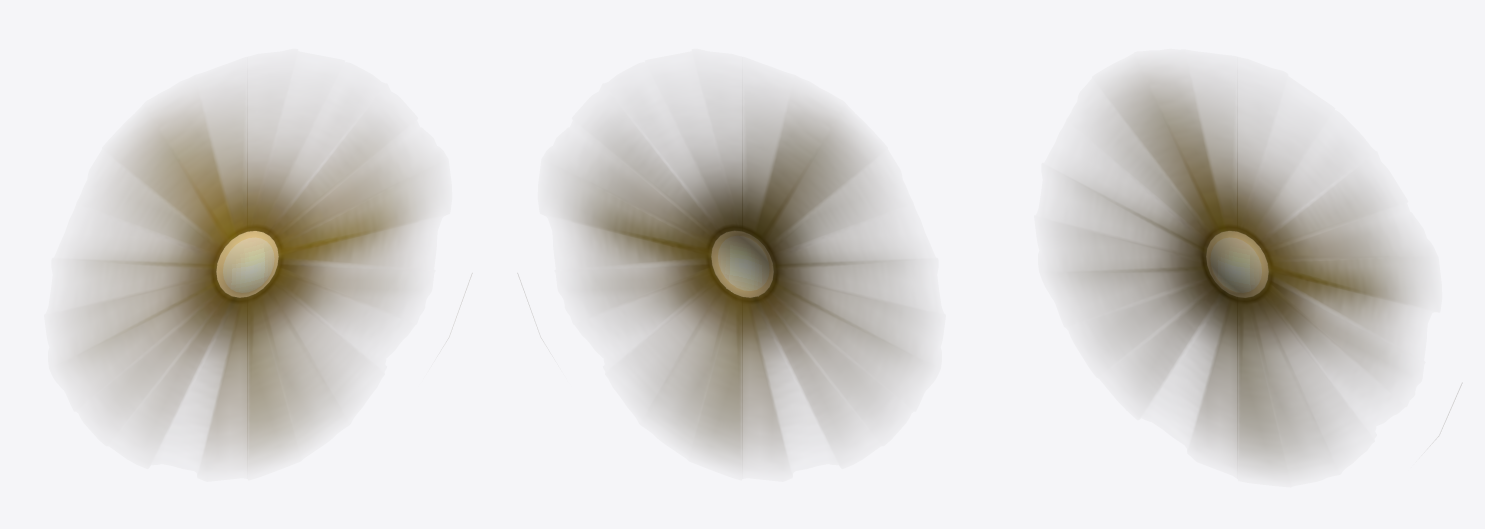
3 renders of one model, left to right at view 1: azimuth 30°, elevation 25°; view 2: azimuth 150°, elevation 25°; view 3: azimuth 330°, elevation 25°, orthographic.
Parts seen in each view (by area): view 1: body0_model0_lod0_mesh1, body0_model0_lod0_mesh0; view 2: body0_model0_lod0_mesh1, body0_model0_lod0_mesh0; view 3: body0_model0_lod0_mesh1, body0_model0_lod0_mesh0.
Boxes of the visible parts, x1,y1,x2,y2 form: body0_model0_lod0_mesh1: (73,97,424,460); body0_model0_lod0_mesh0: (216,231,278,297); body0_model0_lod0_mesh1: (565,97,916,460); body0_model0_lod0_mesh0: (711,231,773,297); body0_model0_lod0_mesh1: (1062,73,1457,466); body0_model0_lod0_mesh0: (1206,231,1268,297).
Size of the model in its own units: 628 by 628 by 10.23.
2 materials, 2 textured.
